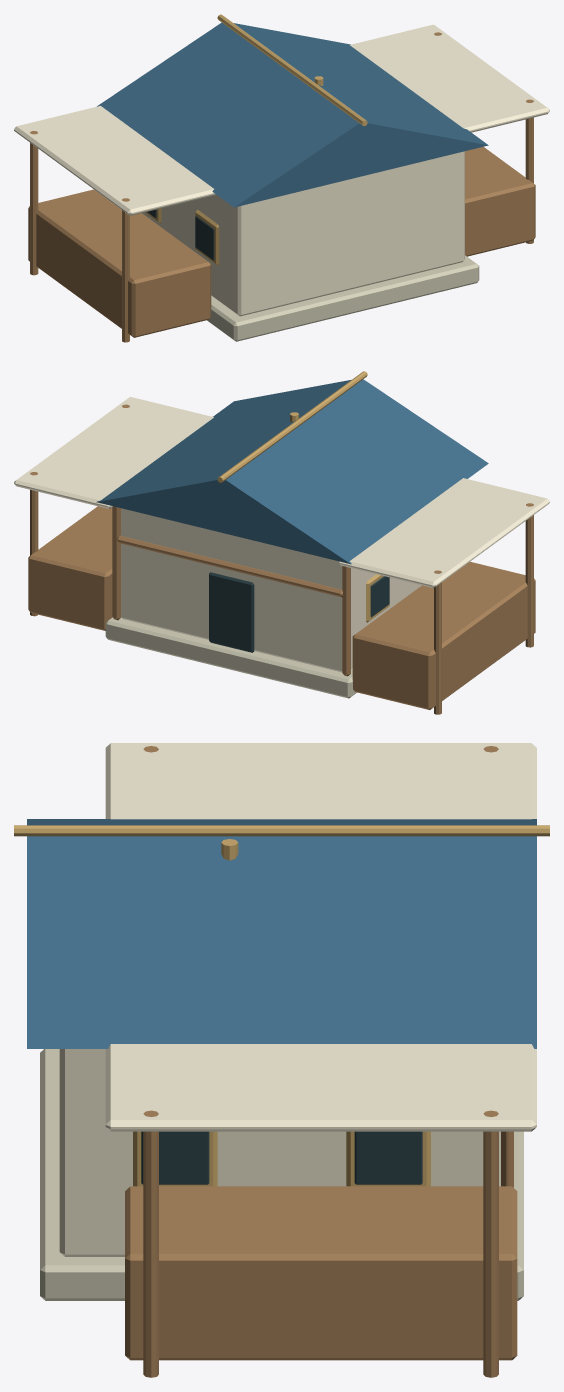
The model's file is level_05.glb.
3 views of the same model, one above another, from view 1: azimuth 30°, elevation 25°; view 2: azimuth 150°, elevation 25°; view 3: azimuth 270°, elevation 25° (orthographic). The views are drawn at different scales.
Visible parts, largest first — view 1: market — level 05; view 2: market — level 05; view 3: market — level 05.
Boxes of the visible parts, x1,y1,x2,y2 form: market — level 05: [14, 14, 549, 342]; market — level 05: [14, 371, 549, 714]; market — level 05: [14, 743, 549, 1377].
Bounding box in the file's own units: 6.9 × 3.1 × 4.1.
